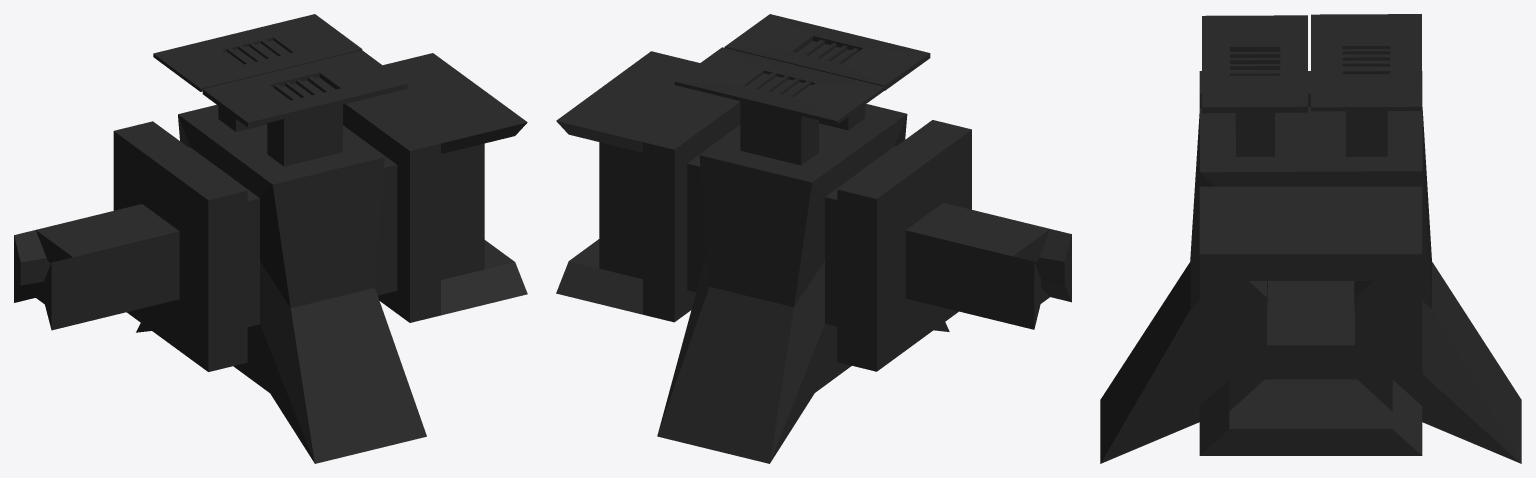
File: DysCannonV1.5.glb
3 views of the same model, side by side, from view 1: azimuth 30°, elevation 25°; view 2: azimuth 150°, elevation 25°; view 3: azimuth 270°, elevation 25° (orthographic). The views are drawn at different scales.
Parts seen in each view (by area): view 1: node_id4; view 2: node_id4; view 3: node_id4.
Part boxes in pixels (x1,y1,x2,y2): node_id4: [14, 14, 527, 463]; node_id4: [556, 14, 1071, 463]; node_id4: [1100, 14, 1521, 463].
Size of the model in its own units: 0.512 by 0.3457 by 0.3552.
1 material, 1 textured.
